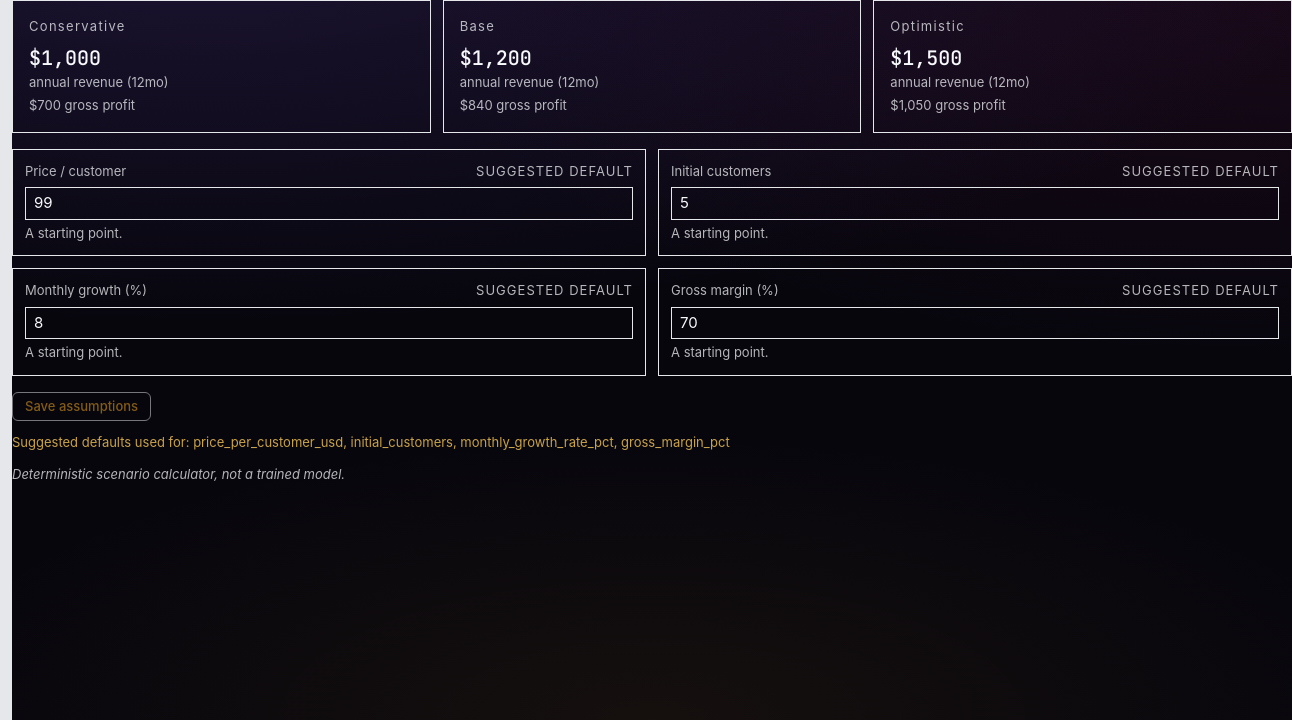
Test: RevenueScenarios — revenue assumption save flow (moved from AnalysisResult) › distinguishes an unsaved edit preview from persisted values, and clears the banner on successful save
Replace the text in the number field labelled "Price / customer" with "250": [329, 203] box [25,187,633,220]
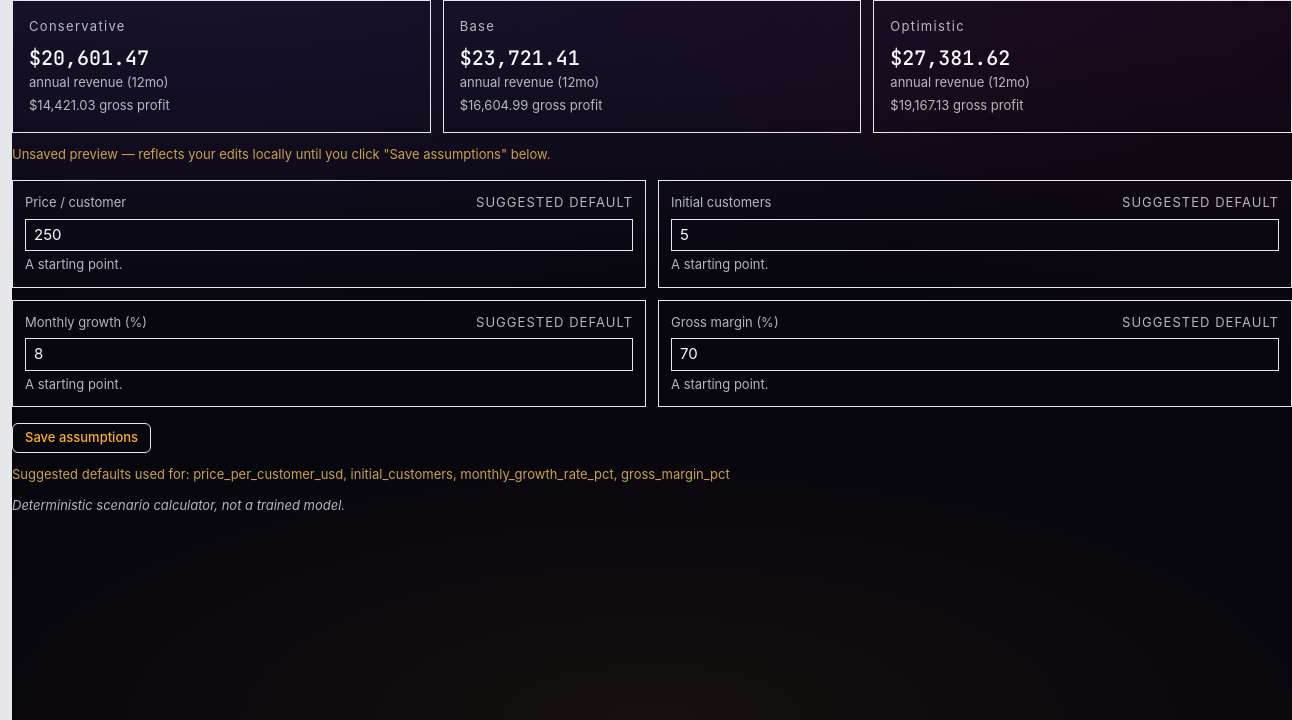
expect the text "Unsaved preview" is shown: met, box [12,146,550,162]
Click the button "Save assumptions": [82, 438] box [12,423,151,452]
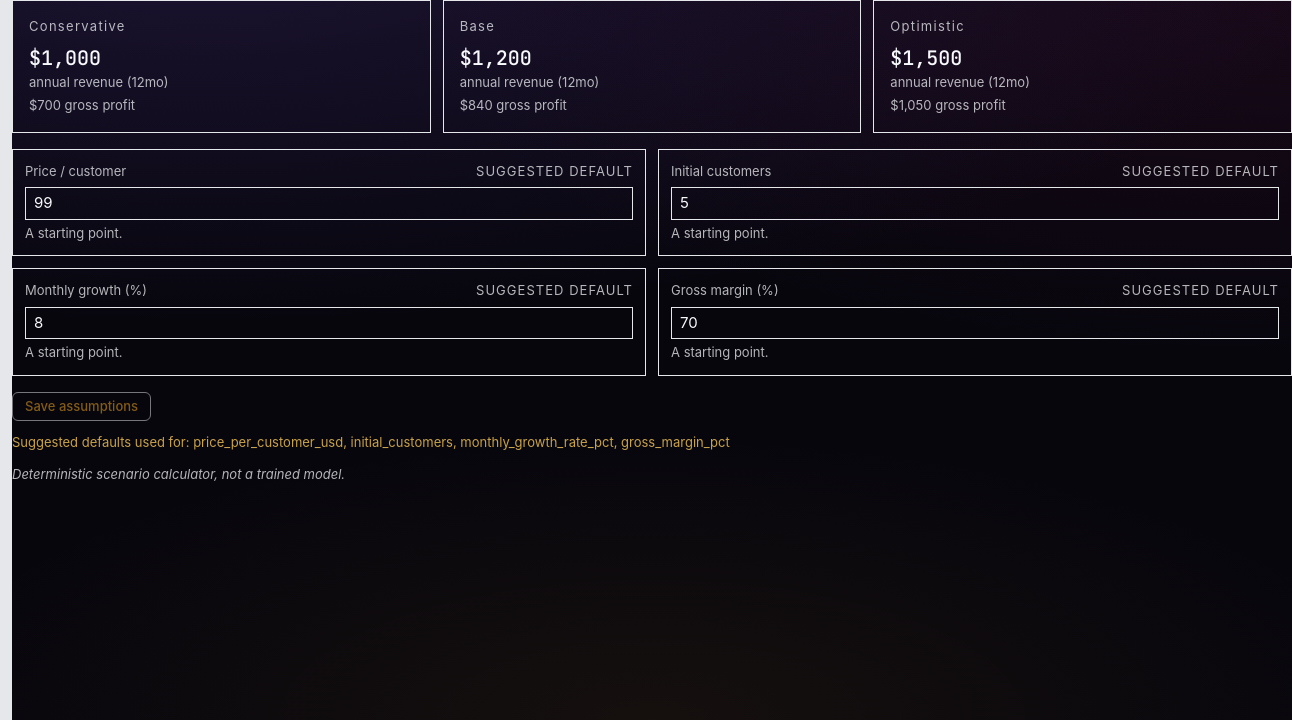
expect the text "Unsaved preview" is gone: met
